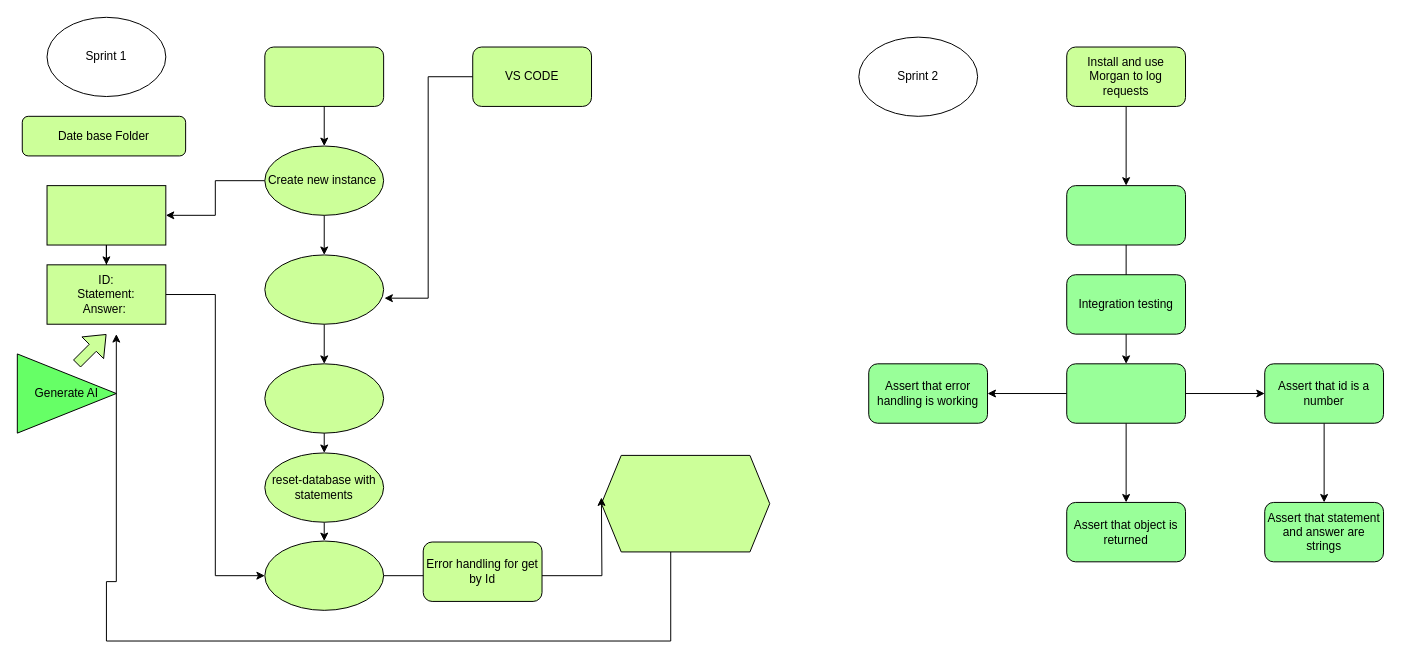
This 1401x666 diagram has some shape labels left out. The shapes that lost their labels are listed below. From the top down, each one's centre as x and y in pixels, then its label:
the point at 324,76: Database SQL
the point at 106,215: Entity Relationship Diagram
the point at 1126,215: Install vitest
the point at 324,289: Create .env index.js gitignore
the point at 324,398: Packages nodemon morgan express
the point at 1126,393: Write tests to check that object returned is what is expected
the point at 685,503: Create Drop Reset Populate (Seed)
the point at 324,575: App.js (CRUD) get by ID quiz.js
